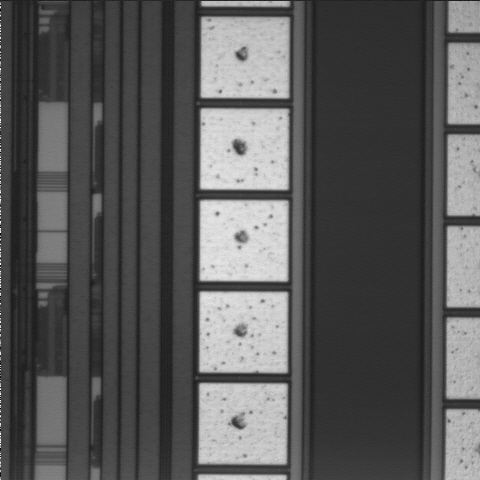pad: (200, 109, 288, 190), (200, 200, 288, 281), (199, 384, 287, 464), (201, 18, 288, 98), (200, 292, 287, 372)
